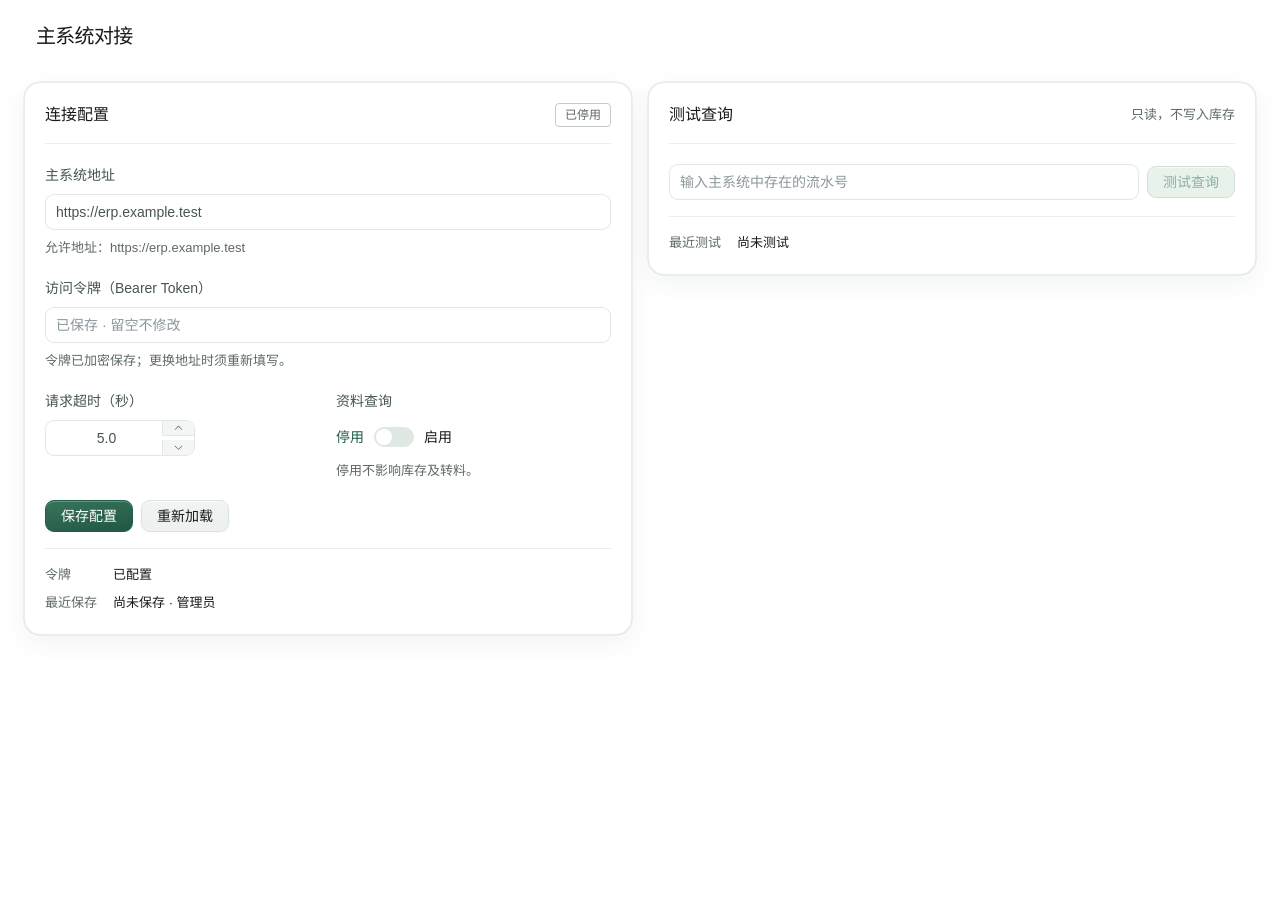
retains a draft on save conflict and does not test unsaved settings
Type "draft-token" into the password field named "访问令牌" at [328, 325], box top-left (56, 308), bottom-right (600, 342)
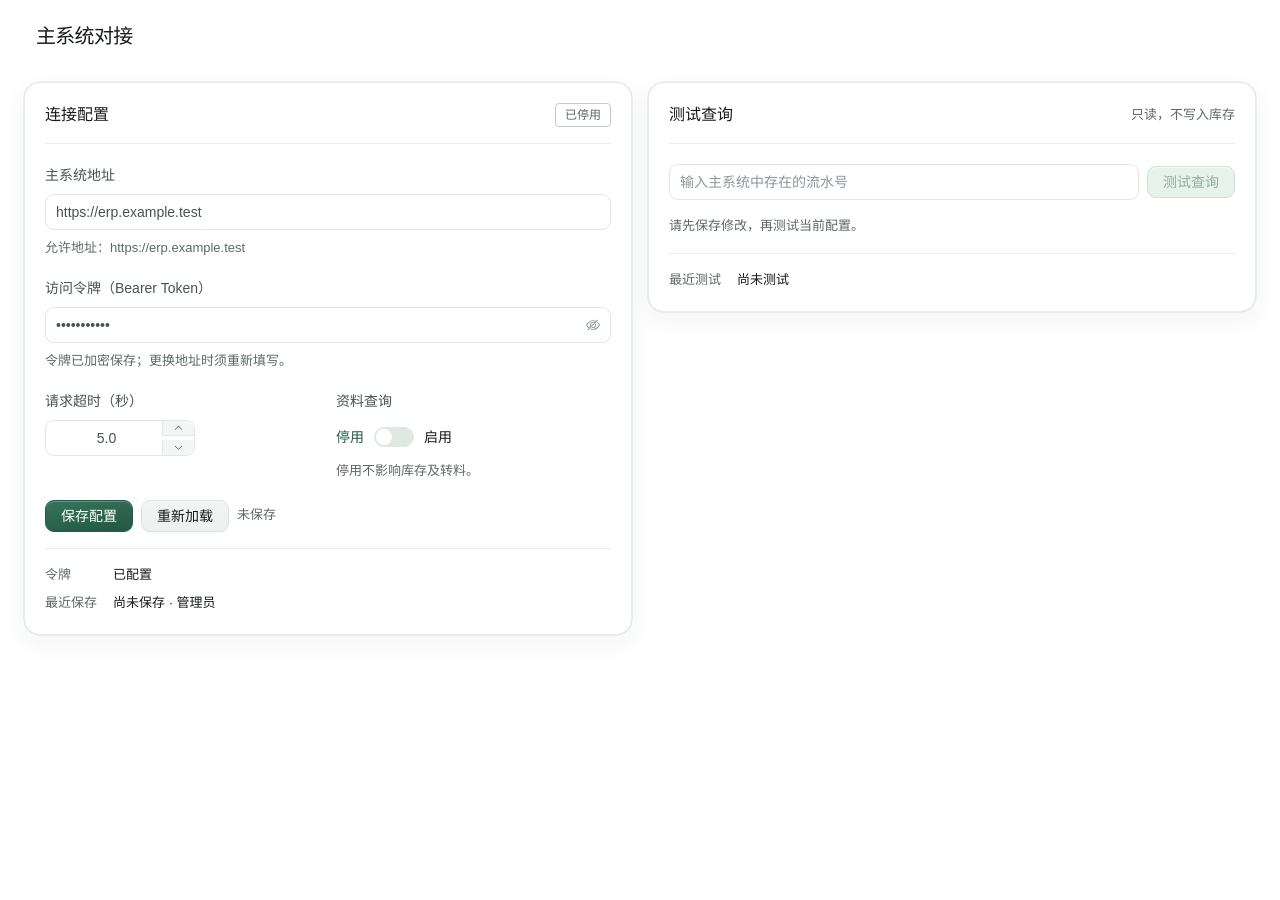
Type "A001" into the field named "测试流水号" at [904, 182], box top-left (680, 165), bottom-right (1128, 199)
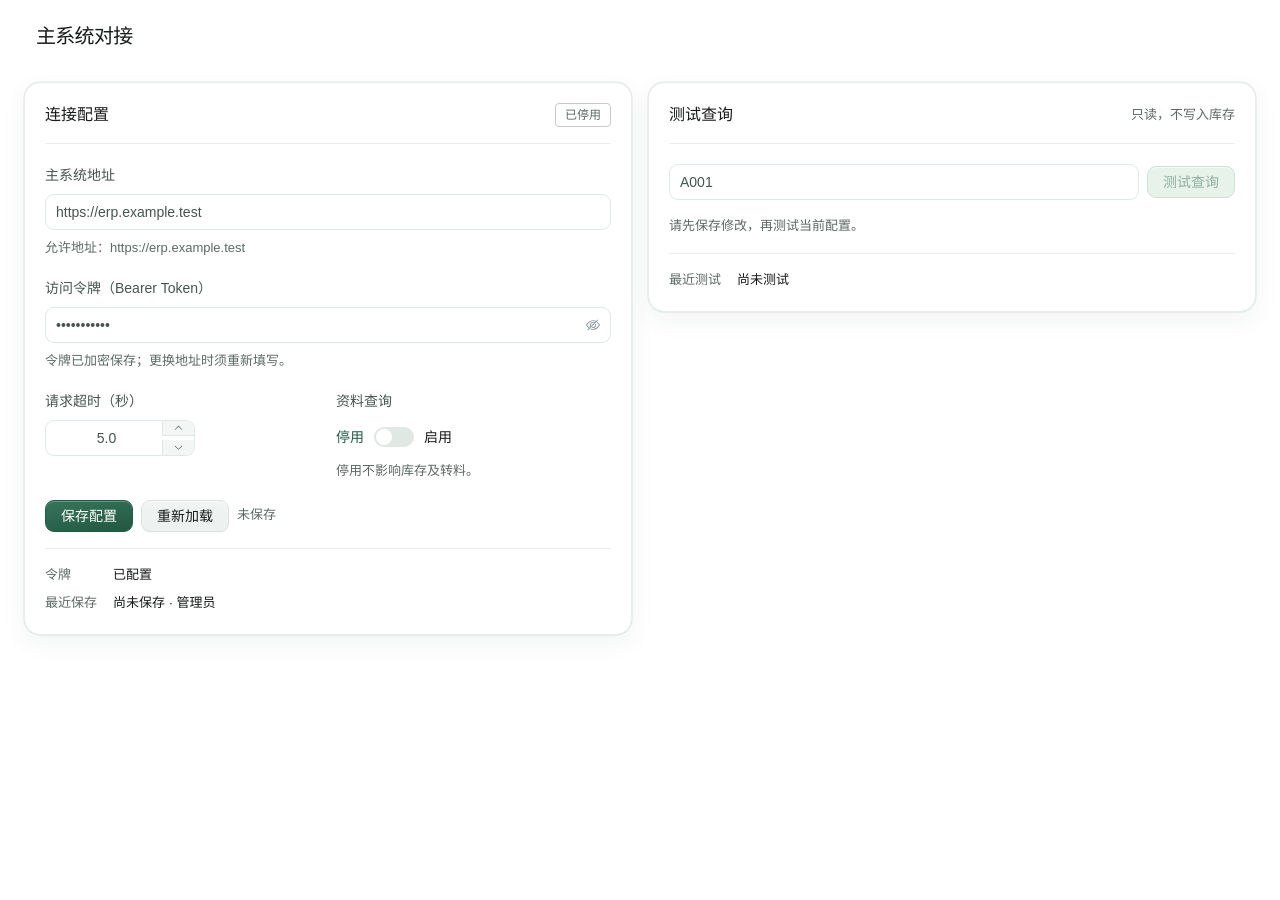
Submit the form with class "integration-test", box top-left (669, 164), bottom-right (1235, 200)
Submit the form that starts with "主系统地址", box top-left (45, 164), bottom-right (611, 532)
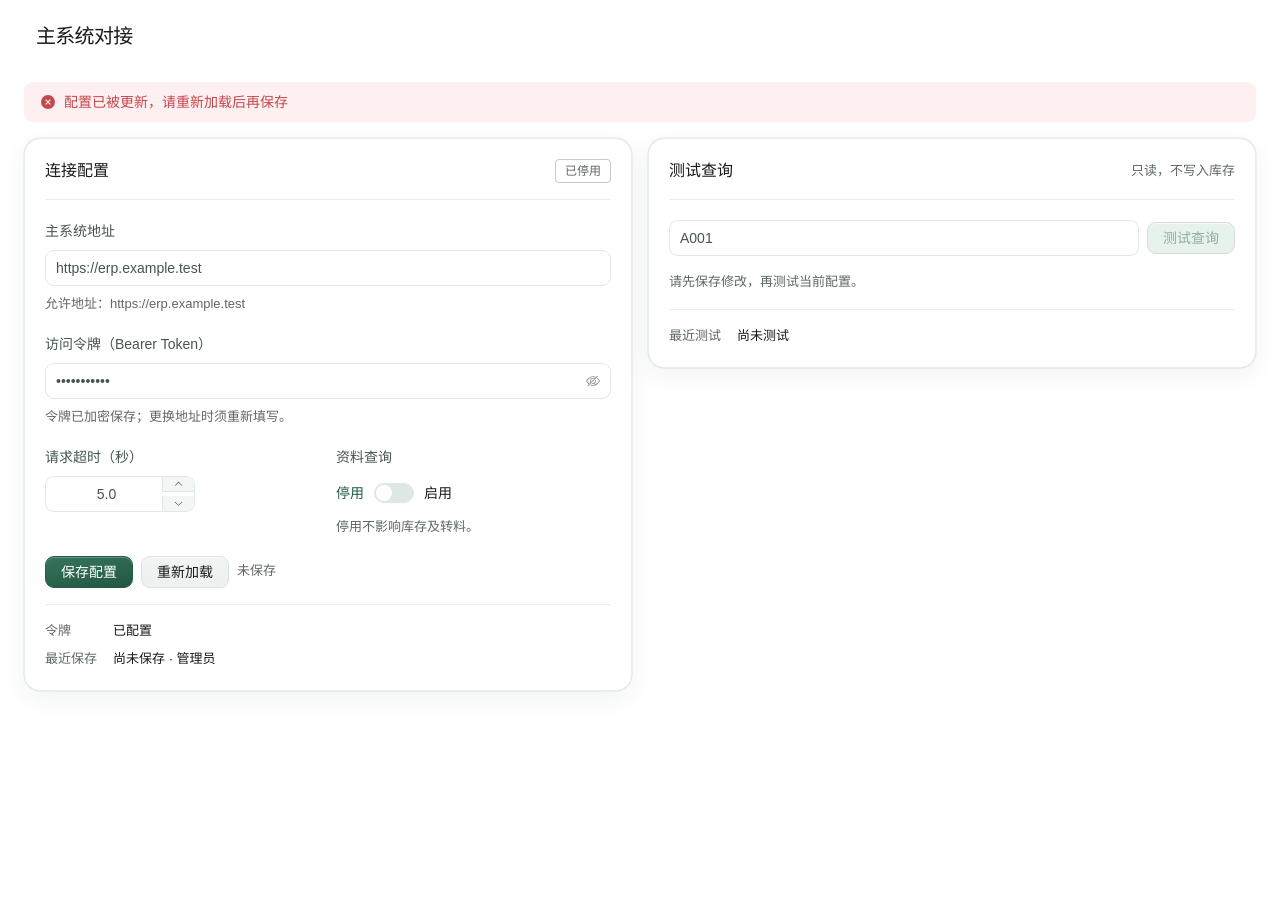
Now the text "配置已被更新" is shown, box top-left (64, 94), bottom-right (288, 110)
